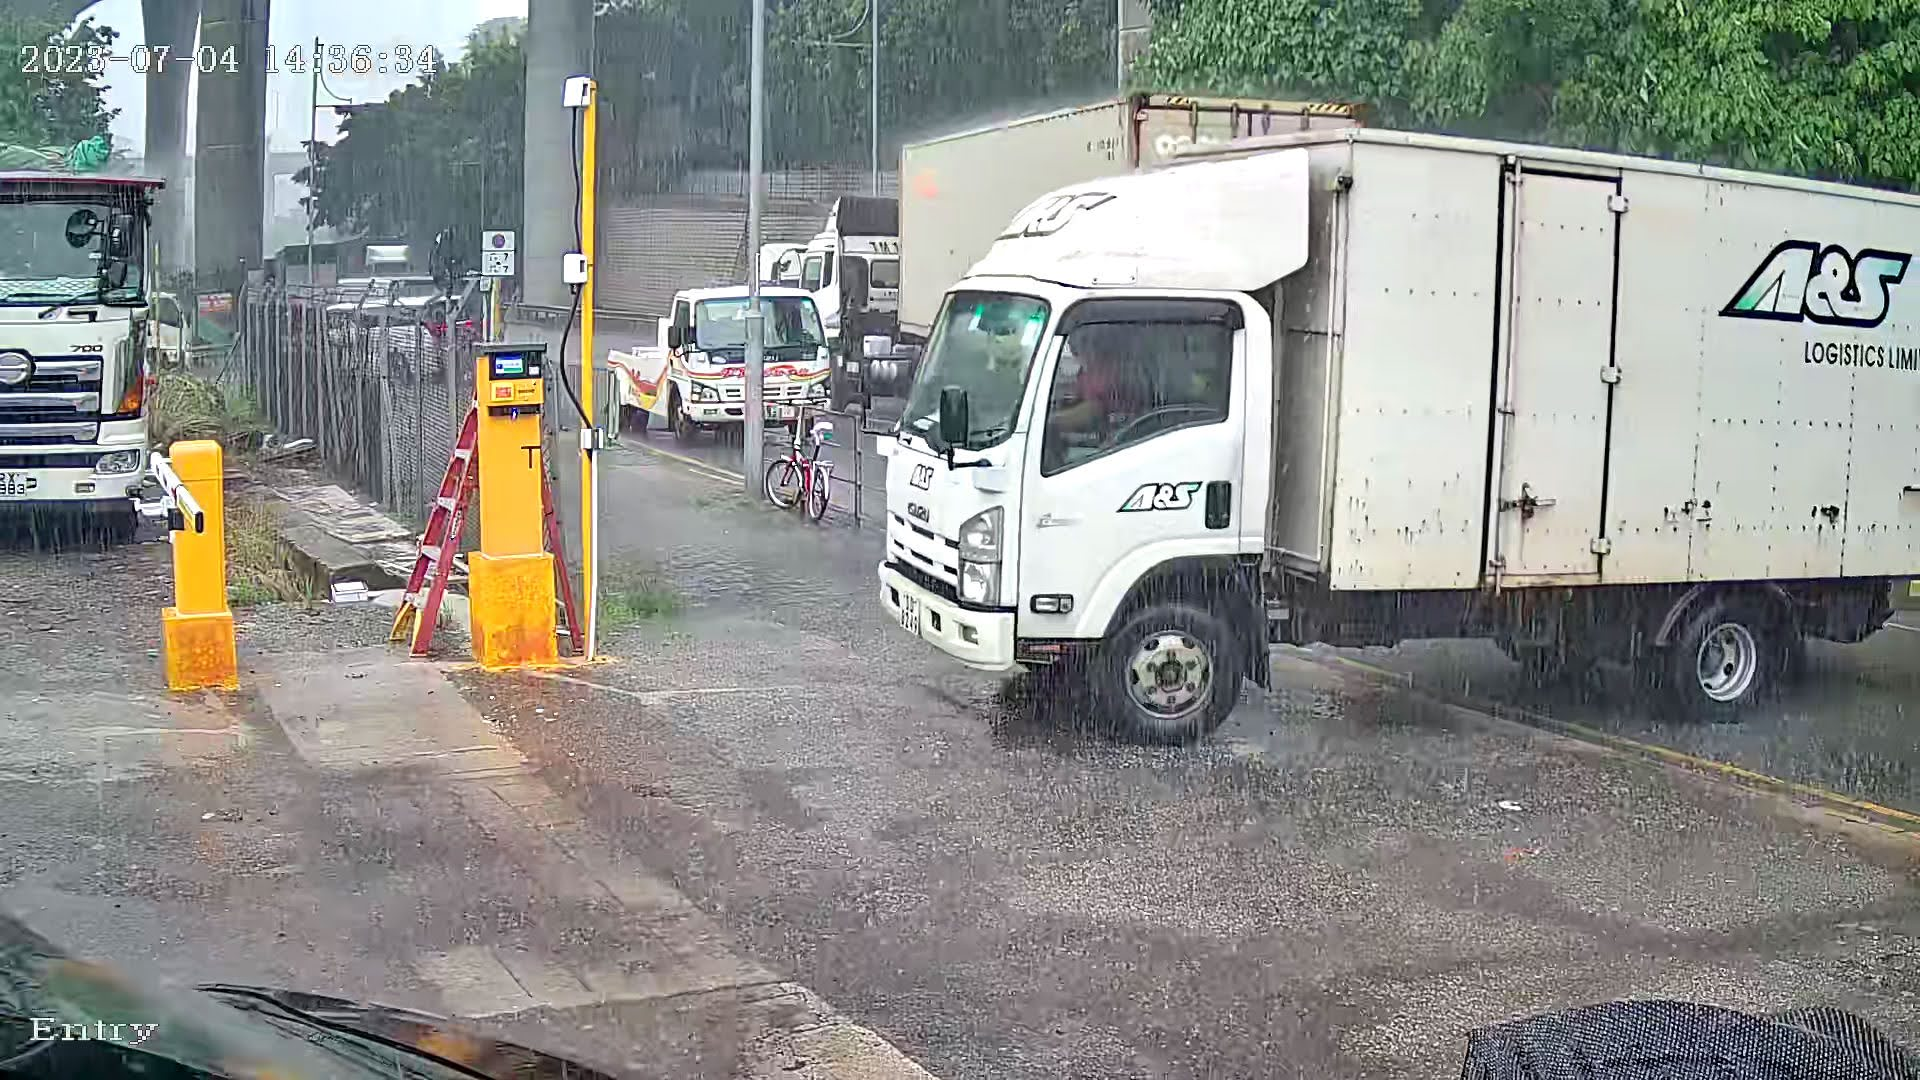truck: (890, 117, 1917, 781)
